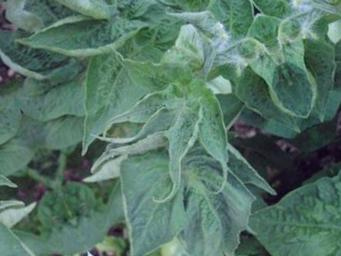Tomato leaf mosaic virus: (47, 26, 189, 157), (78, 134, 222, 256), (126, 96, 235, 204), (173, 80, 255, 192)
